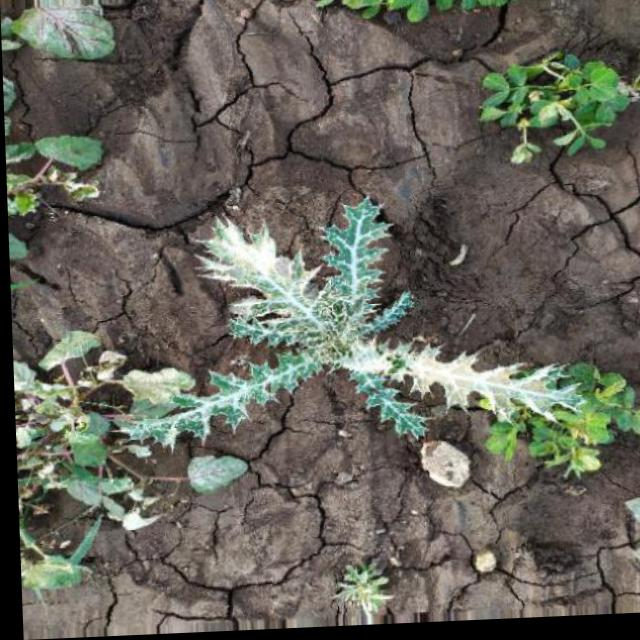weed: (7, 171, 594, 591), (450, 60, 637, 167)
